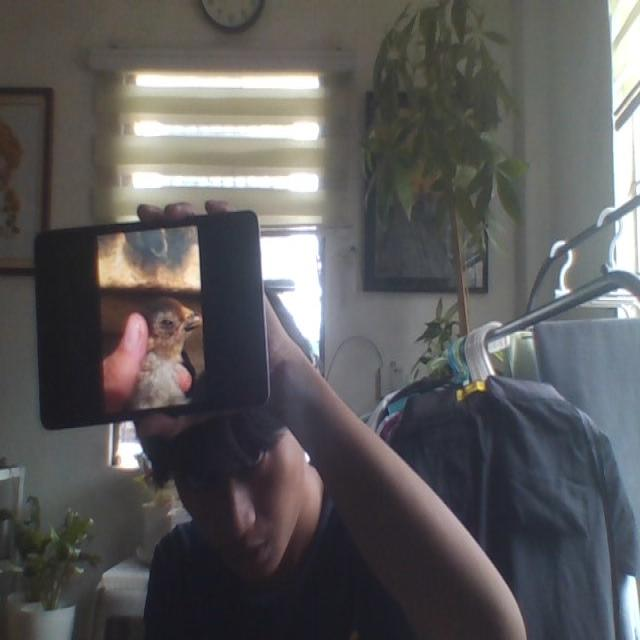Sick: (136, 298, 202, 408)
